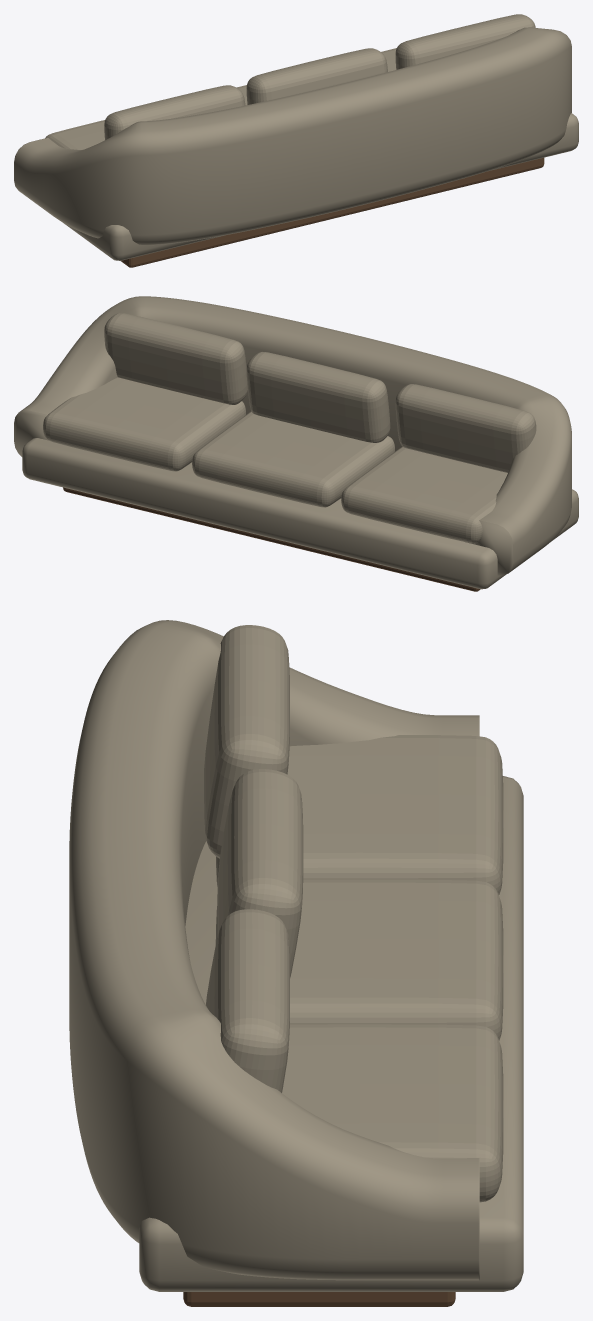
The model's file is sofa-3seat.glb.
The picture shows the model from 3 angles, top to bottom: view 1: azimuth 30°, elevation 25°; view 2: azimuth 150°, elevation 25°; view 3: azimuth 270°, elevation 25°; orthographic projection. The views are drawn at different scales.
Parts seen in each view (by area): view 1: sofa_shell, sofa_back_cushion_1, sofa_plinth, sofa_back_cushion_2, sofa_back_cushion_0, sofa_seat, sofa_cushion_0; view 2: sofa_shell, sofa_seat, sofa_cushion_2, sofa_cushion_1, sofa_cushion_0, sofa_back_cushion_1, sofa_back_cushion_2, sofa_back_cushion_0, sofa_plinth; view 3: sofa_shell, sofa_cushion_1, sofa_cushion_0, sofa_cushion_2, sofa_seat, sofa_back_cushion_0, sofa_back_cushion_2, sofa_back_cushion_1, sofa_plinth.
Boxes of the visible parts, <box> form: sofa_shell: <box>14,27,571,245</box>; sofa_back_cushion_1: <box>246,48,387,104</box>; sofa_plinth: <box>121,157,544,267</box>; sofa_back_cushion_2: <box>395,14,535,69</box>; sofa_back_cushion_0: <box>104,85,245,140</box>; sofa_seat: <box>63,113,578,260</box>; sofa_cushion_0: <box>45,120,104,149</box>; sofa_shell: <box>14,296,571,575</box>; sofa_seat: <box>22,438,578,589</box>; sofa_cushion_2: <box>43,377,245,471</box>; sofa_cushion_1: <box>192,411,394,507</box>; sofa_cushion_0: <box>341,446,507,543</box>; sofa_back_cushion_1: <box>246,352,390,442</box>; sofa_back_cushion_2: <box>104,313,247,404</box>; sofa_back_cushion_0: <box>395,384,536,472</box>; sofa_plinth: <box>63,487,480,591</box>; sofa_shell: <box>69,620,479,1280</box>; sofa_cushion_1: <box>215,879,503,1040</box>; sofa_cushion_0: <box>216,735,503,894</box>; sofa_cushion_2: <box>282,1024,503,1202</box>; sofa_seat: <box>139,776,523,1291</box>; sofa_back_cushion_0: <box>204,625,289,858</box>; sofa_back_cushion_2: <box>206,909,289,1092</box>; sofa_back_cushion_1: <box>217,769,303,977</box>; sofa_plinth: <box>183,1292,455,1306</box>.
Bounding box in the file's own units: 2.88 × 0.7847 × 1.14.
